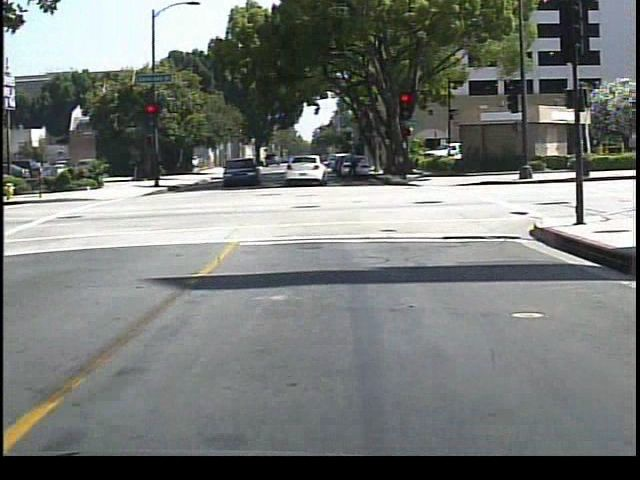person: (341, 146, 362, 187)
